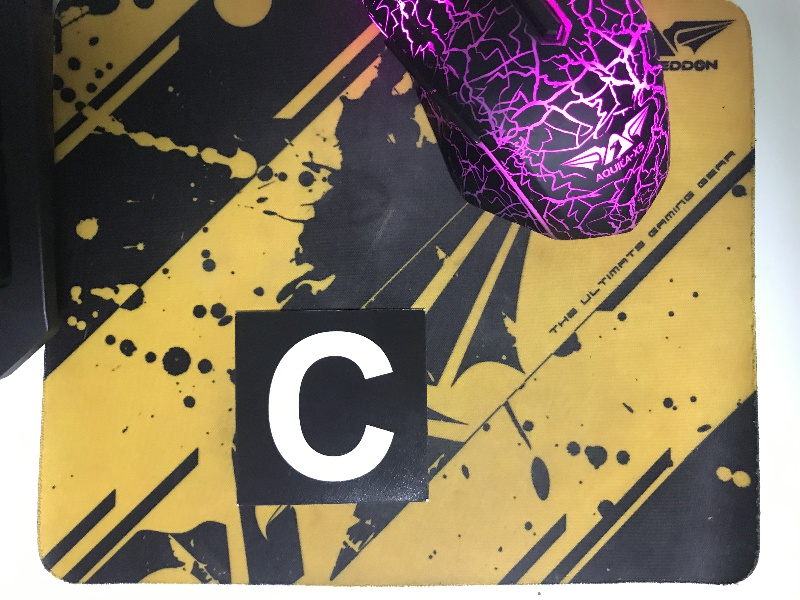C-13: (238, 313, 425, 499)
